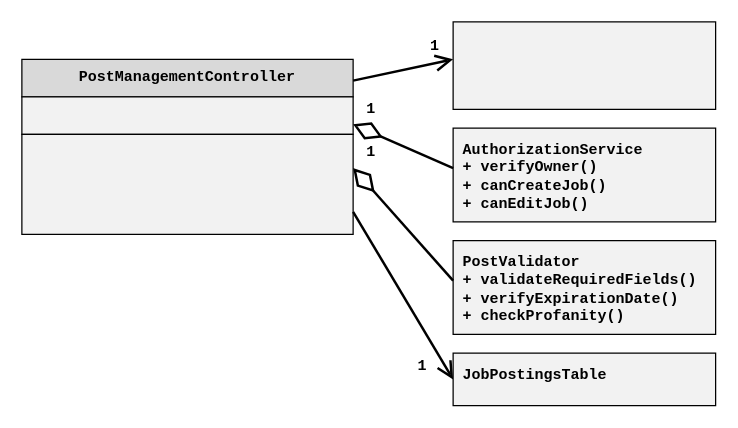
Image size: 738x428. Some labels were removed from this diagram. The centre of each missing label's shape, as x and y in pixels:
+ createPost() + updatePostDetails() + archivePost(): the point at 187,183
JobPosting - isDraft - authorId + createPost() + archivePost(): the point at 584,65
